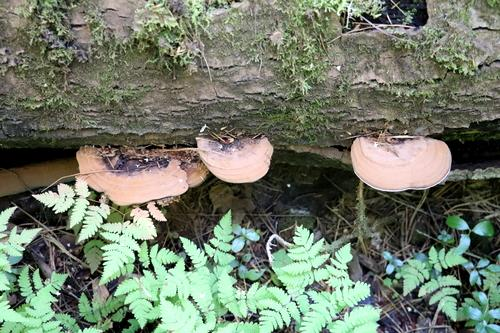Ganoderma - Fruit Body: (77, 144, 190, 200), (351, 134, 451, 193), (197, 130, 274, 187)
